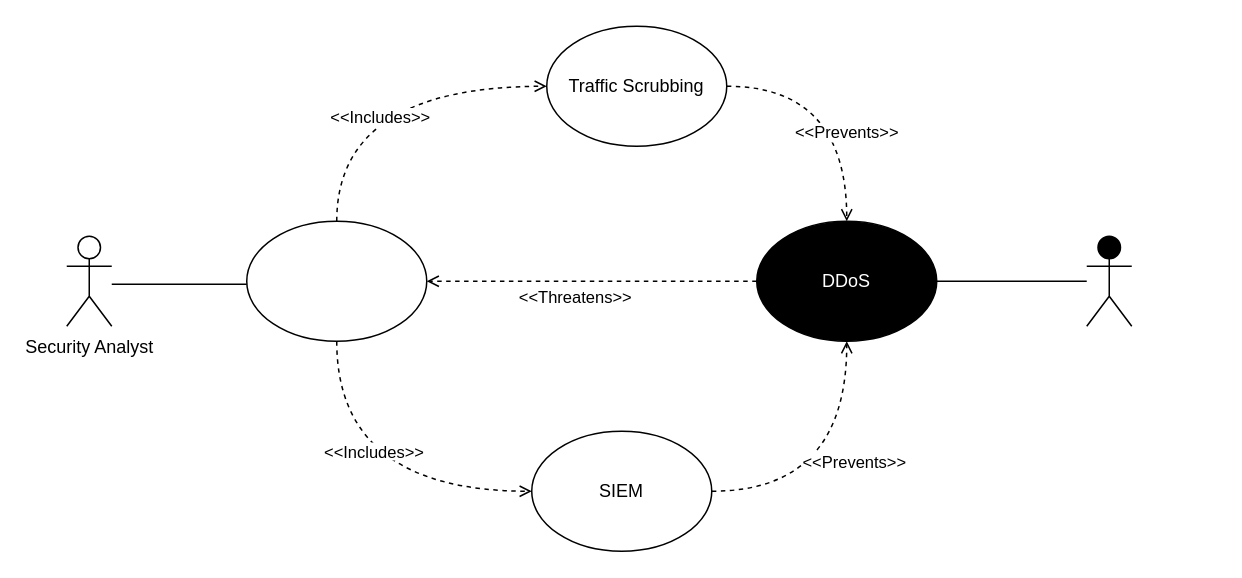
This 1242x578 diagram has some shape labels left out. The box of each missing label's shape, as (x1, y1, x2, y2) in pixels:
Disgruntled Former Patient: (1085, 235, 1132, 326)
Reviewing Logs: (245, 220, 427, 341)
